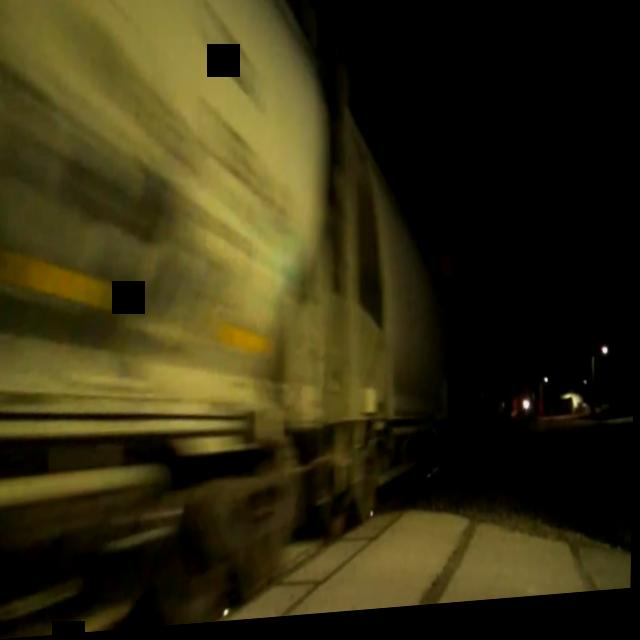hopper: (0, 0, 338, 640), (326, 48, 466, 618)
